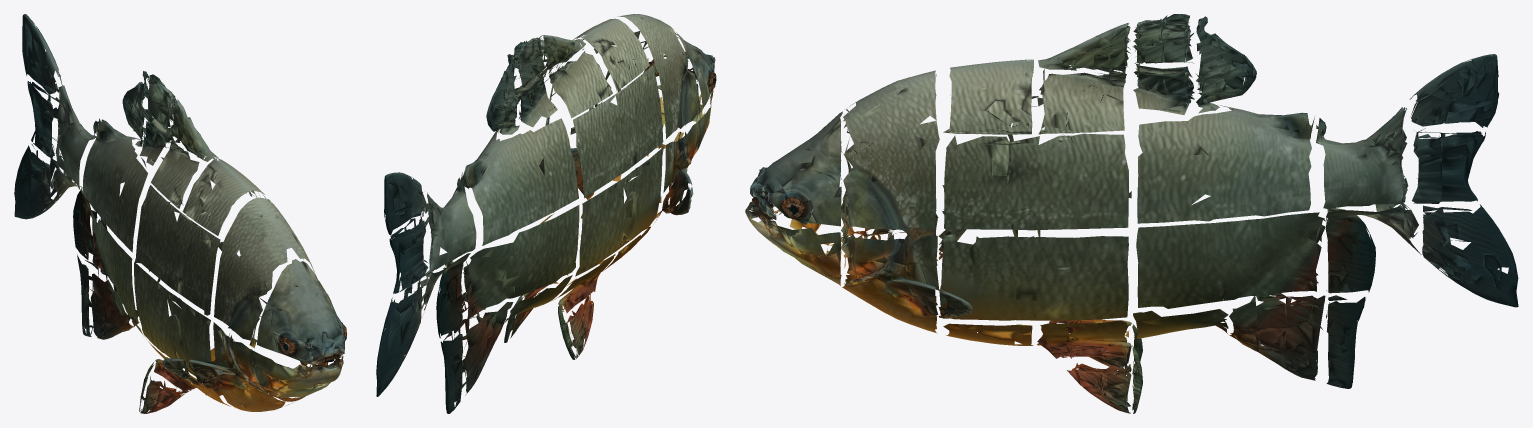
Rendered from arapaima.glb.
The picture shows the model from 3 angles, left to right: view 1: azimuth 30°, elevation 25°; view 2: azimuth 150°, elevation 25°; view 3: azimuth 270°, elevation 25°; orthographic projection. The views are drawn at different scales.
Parts seen in each view (by area): view 1: world; view 2: world; view 3: world.
Part boxes in pixels (x1=…): world: x1=14, y1=14, x2=346, y2=413; world: x1=376, y1=14, x2=716, y2=413; world: x1=745, y1=14, x2=1518, y2=413.
Size of the model in its own units: 0.2854 by 0.5405 by 0.9984.
Materials: 1 (1 with a texture image).
